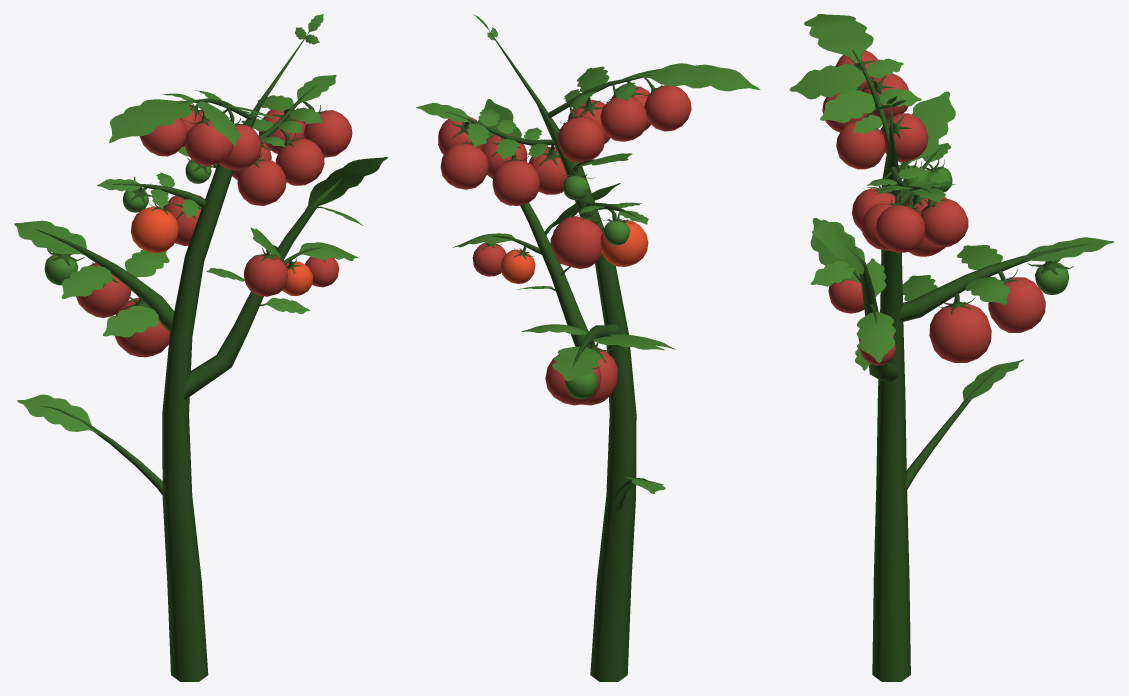
File: CherryTomato_L.fbx
3 views of the same model, side by side, from view 1: azimuth 30°, elevation 25°; view 2: azimuth 150°, elevation 25°; view 3: azimuth 270°, elevation 25° (orthographic). The views are drawn at different scales.
Visible parts, largest first — view 1: Cube.020; view 2: Cube.020; view 3: Cube.020.
Part boxes in pixels (x1,y1,x2,y2): Cube.020: [14, 14, 387, 681]; Cube.020: [416, 14, 760, 681]; Cube.020: [789, 14, 1114, 681].
Bounding box in the file's own units: 3515 × 7377 × 3371.
